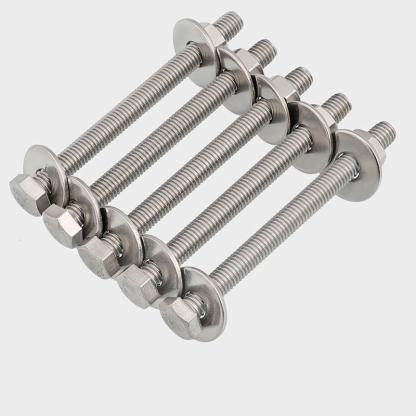FOD: (10, 12, 244, 220), (170, 17, 220, 92), (18, 141, 69, 212)
